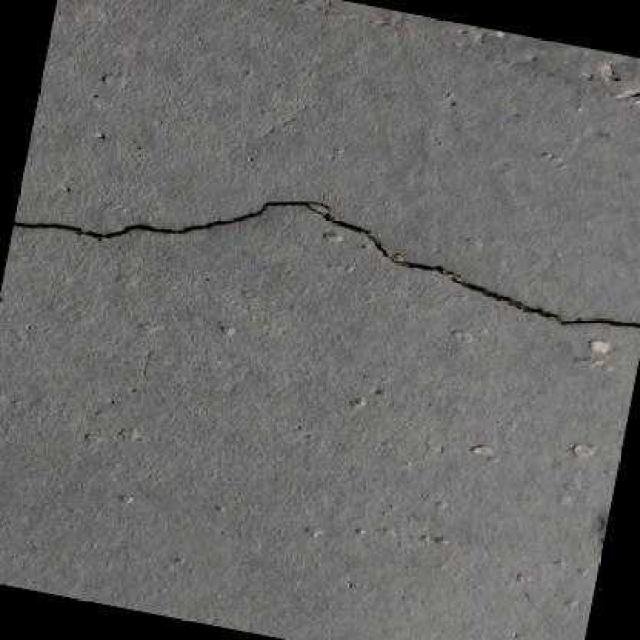D00: (13, 200, 640, 327)
